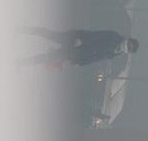person: (14, 21, 139, 66)
